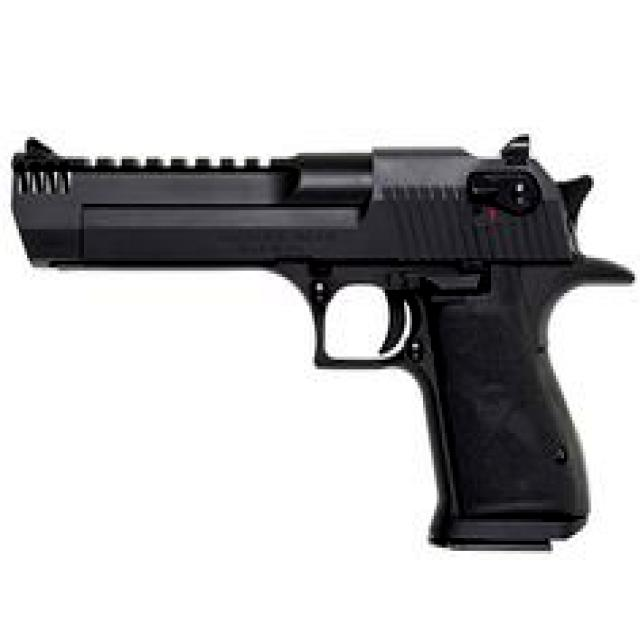semi automatic: (3, 92, 640, 594)
